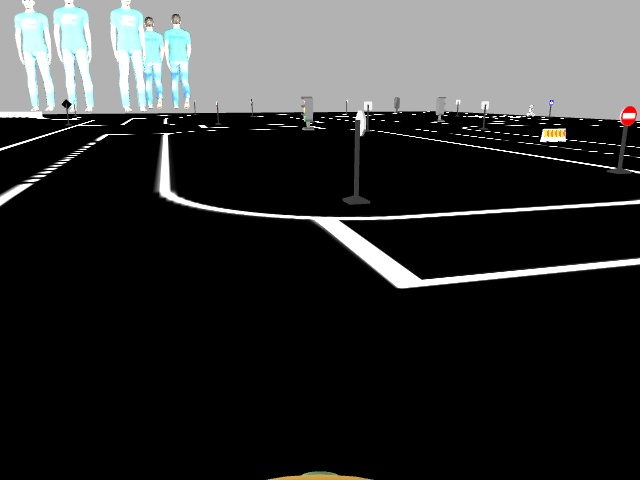NoEntry: (616, 104, 639, 128)
